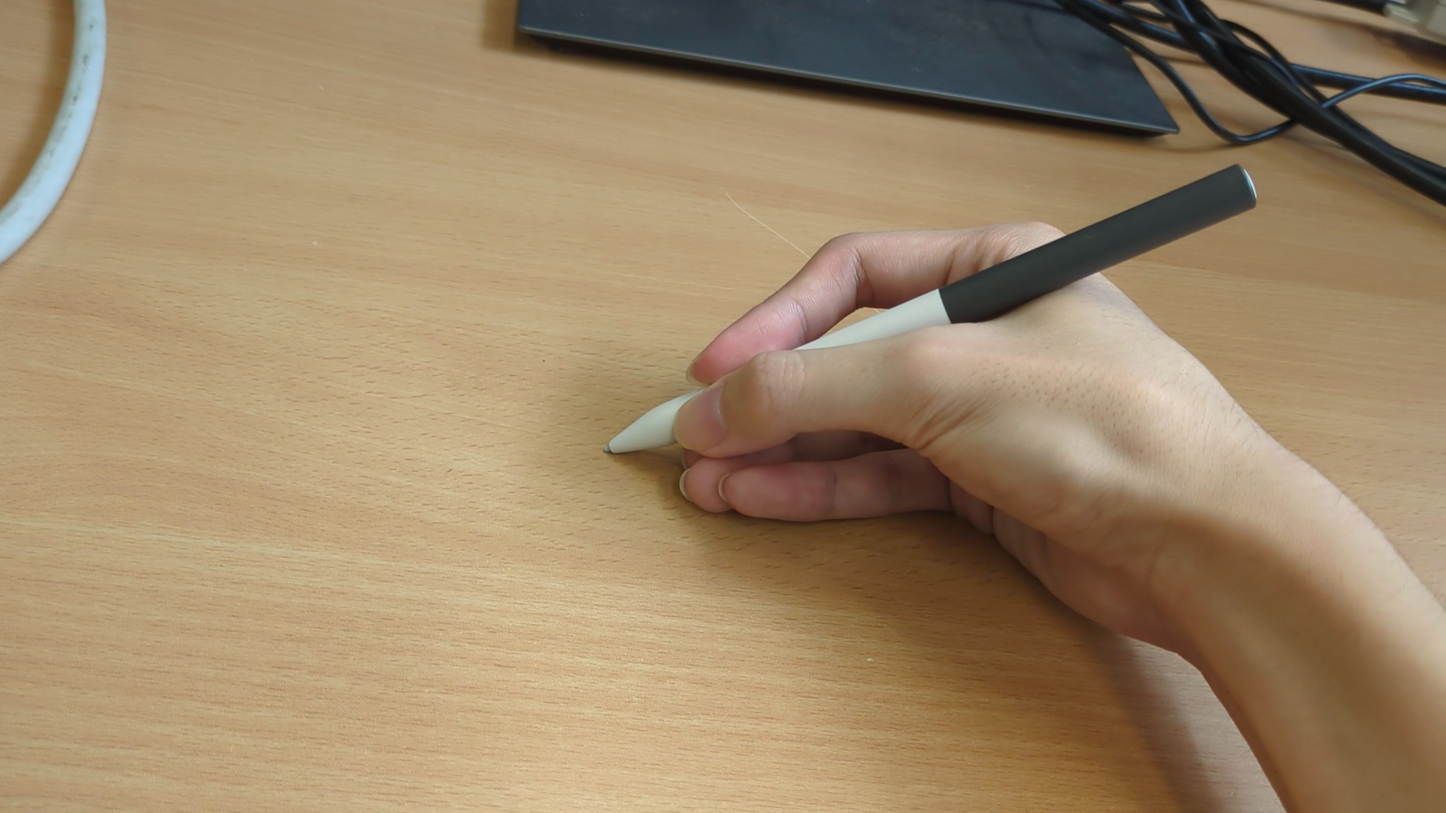pen: (599, 159, 1264, 458)
tip: (599, 431, 630, 455)
